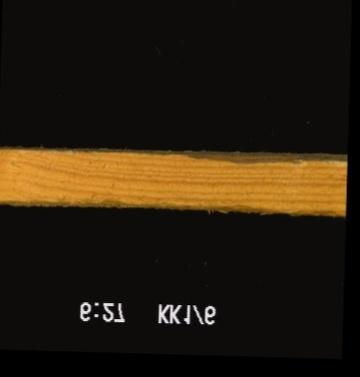wave: (171, 152, 331, 168)
